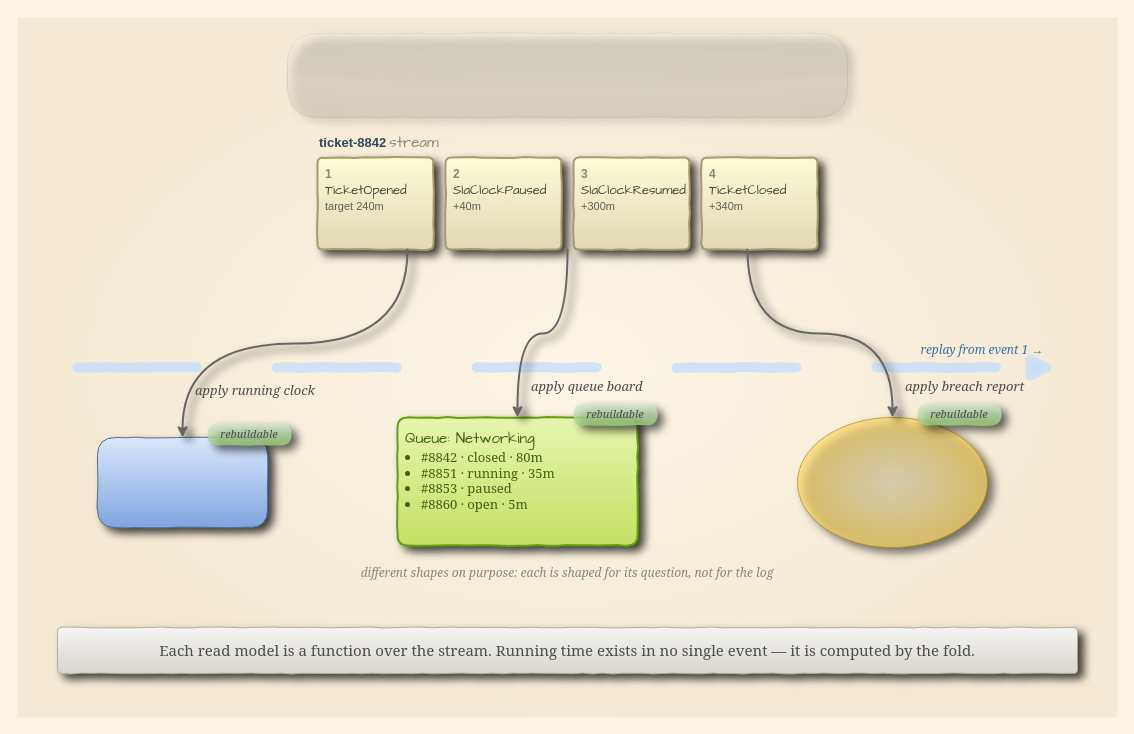
Some shapes in this 1134 by 734 pixel diagram are drawn without their labels. Here are the shapes that lost their labels. From the top down, the centre of each, then its label:
At point (570, 77): "A read model is a derived thing one stream · three shapes · all rebuildable".
At point (185, 484): "Running 80m".
At point (895, 484): "Breaches 0 of 12".
